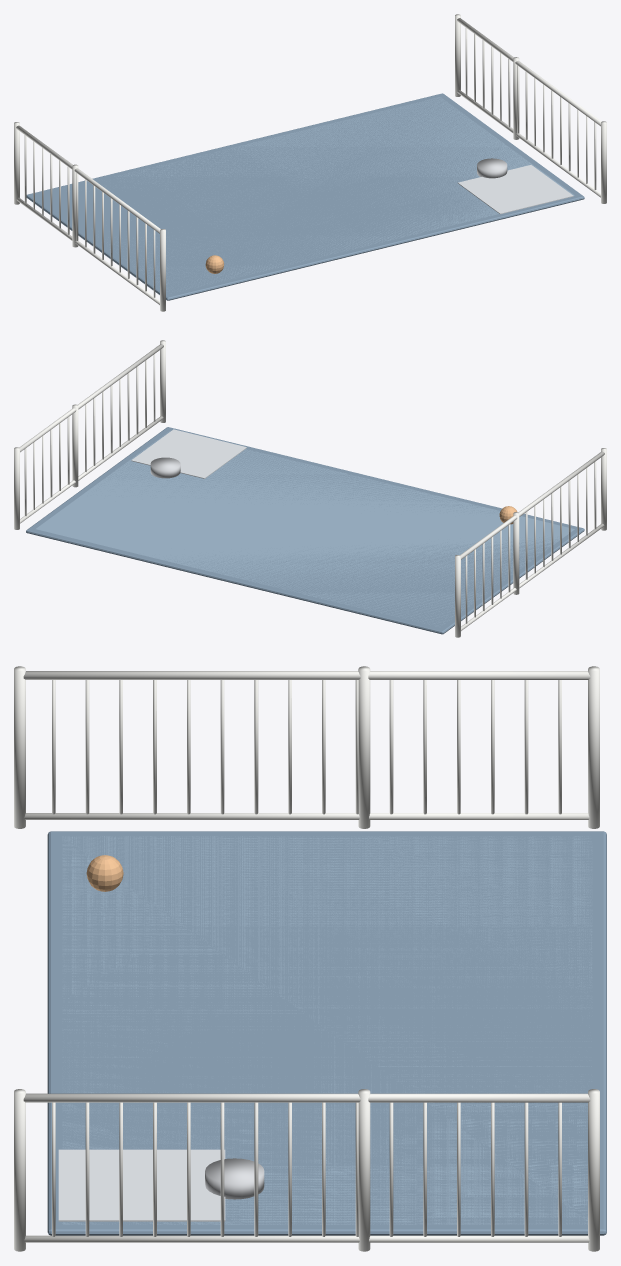
Rendered from clinic_pen.glb.
3 renders of one model, top to bottom at view 1: azimuth 30°, elevation 25°; view 2: azimuth 150°, elevation 25°; view 3: azimuth 270°, elevation 25°, orthographic. The views are drawn at different scales.
Visible parts, largest first — view 1: clinic_pen; view 2: clinic_pen; view 3: clinic_pen.
Part boxes in pixels (box(x1,y1,x2,y2)): clinic_pen: box(14, 14, 606, 311); clinic_pen: box(14, 340, 606, 637); clinic_pen: box(14, 666, 606, 1251).
Size of the model in its own units: 2.73 by 0.47 by 1.6.
